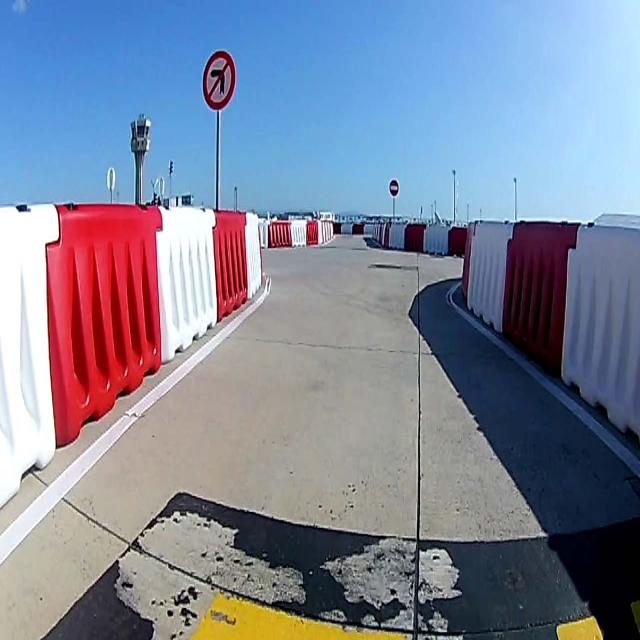soladonulmez: (203, 51, 236, 109)
